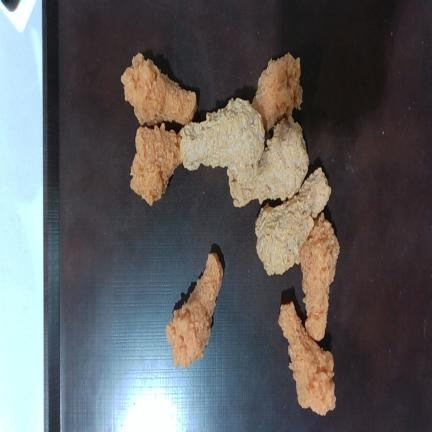chicken: (255, 168, 331, 275), (227, 118, 308, 206), (166, 253, 223, 368), (278, 302, 335, 415), (180, 98, 264, 173), (121, 53, 197, 125), (300, 212, 339, 340), (130, 124, 181, 205), (252, 53, 302, 132)
